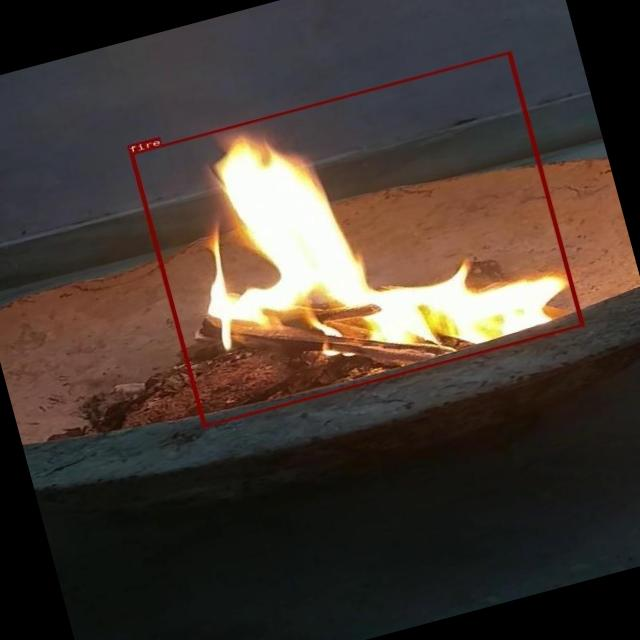fire: (128, 50, 584, 428)
